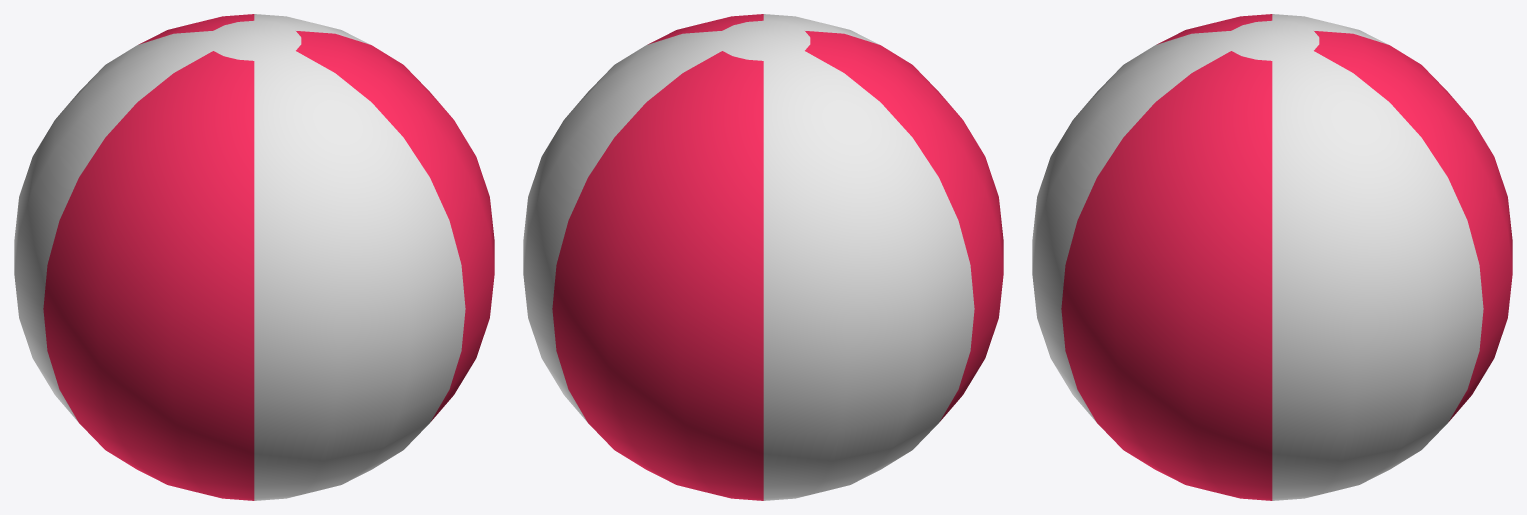
File: ball_teamRed-col.glb
The picture shows the model from 3 angles, left to right: view 1: azimuth 30°, elevation 25°; view 2: azimuth 150°, elevation 25°; view 3: azimuth 270°, elevation 25°; orthographic projection.
Visible parts, largest first — view 1: ball_teamRed-col; view 2: ball_teamRed-col; view 3: ball_teamRed-col.
Boxes of the visible parts, box(x1,y1,x2,y2) form: ball_teamRed-col: box(14, 14, 494, 500); ball_teamRed-col: box(523, 14, 1003, 500); ball_teamRed-col: box(1032, 14, 1512, 500).
Bounding box in the file's own units: 2 × 2 × 1.97.
